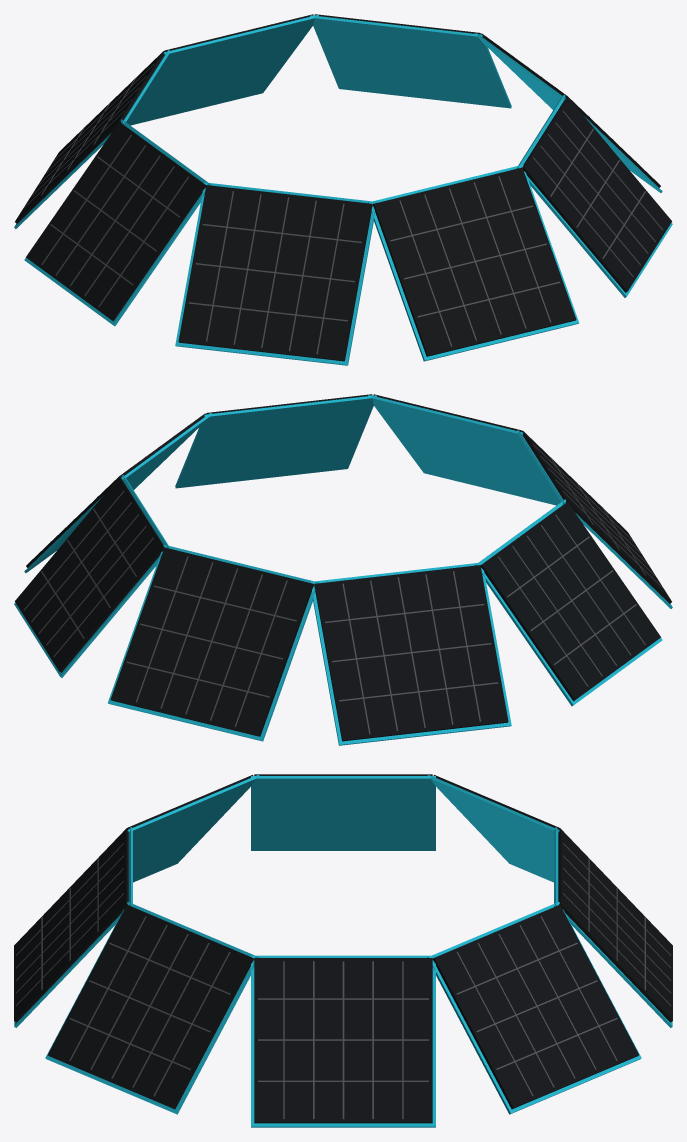
Rendered from n10_array.obj.
The picture shows the model from 3 angles, top to bottom: view 1: azimuth 30°, elevation 25°; view 2: azimuth 150°, elevation 25°; view 3: azimuth 270°, elevation 25°; orthographic projection. The views are drawn at different scales.
Parts seen in each view (by area): view 1: n10_array; view 2: n10_array; view 3: n10_array.
Part boxes in pixels (x1,y1,x2,y2): n10_array: [14, 14, 672, 365]; n10_array: [14, 394, 672, 745]; n10_array: [14, 774, 672, 1127].
Size of the model in its own units: 2.82 by 0.5825 by 2.82.
